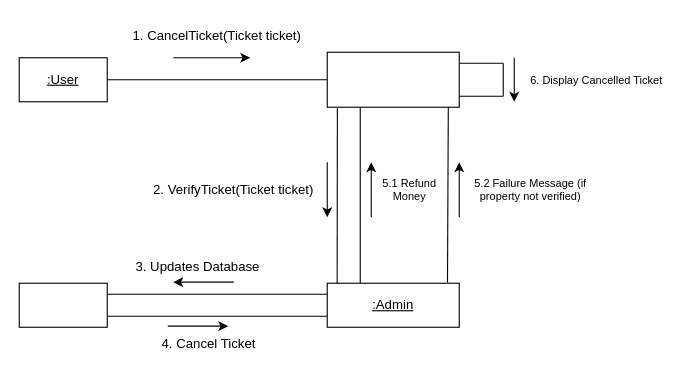
Image size: 688x378. Some labels were removed from this diagram. Here are the shapes that lost their labels. From the top down, the box of each, then its label:
(326, 51, 459, 107): :System Interface
(18, 282, 107, 327): :Database
